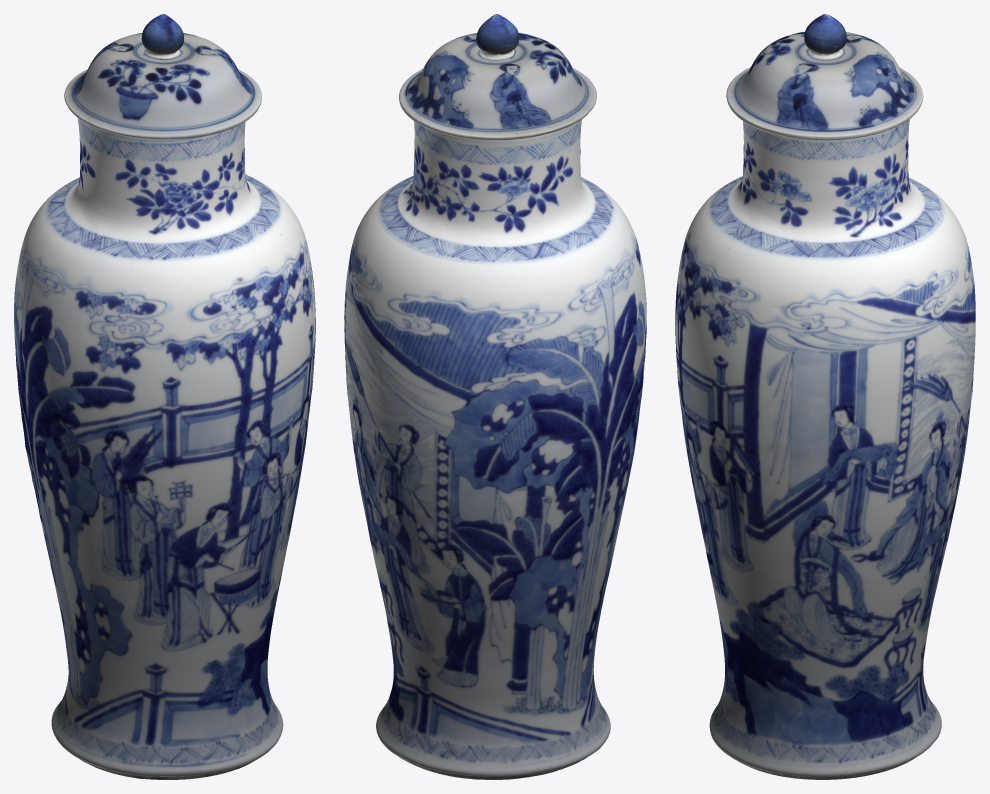
File: balustervase_combined.obj
3 renders of one model, left to right at view 1: azimuth 30°, elevation 25°; view 2: azimuth 150°, elevation 25°; view 3: azimuth 270°, elevation 25°, orthographic.
Visible parts, largest first — view 1: f1980_192-smooth-textured-150k-unwrapped, f1980_192-lid-smooth-textured-150k-unwrapped; view 2: f1980_192-smooth-textured-150k-unwrapped, f1980_192-lid-smooth-textured-150k-unwrapped; view 3: f1980_192-smooth-textured-150k-unwrapped, f1980_192-lid-smooth-textured-150k-unwrapped.
Boxes of the visible parts, x1,y1,x2,y2 form: f1980_192-smooth-textured-150k-unwrapped: (14, 118, 315, 779); f1980_192-lid-smooth-textured-150k-unwrapped: (64, 14, 261, 139); f1980_192-smooth-textured-150k-unwrapped: (344, 119, 646, 779); f1980_192-lid-smooth-textured-150k-unwrapped: (399, 14, 596, 140); f1980_192-smooth-textured-150k-unwrapped: (675, 119, 975, 779); f1980_192-lid-smooth-textured-150k-unwrapped: (726, 14, 923, 140).
Size of the model in its own units: 0.1722 by 0.4556 by 0.172.
2 materials, 2 textured.
